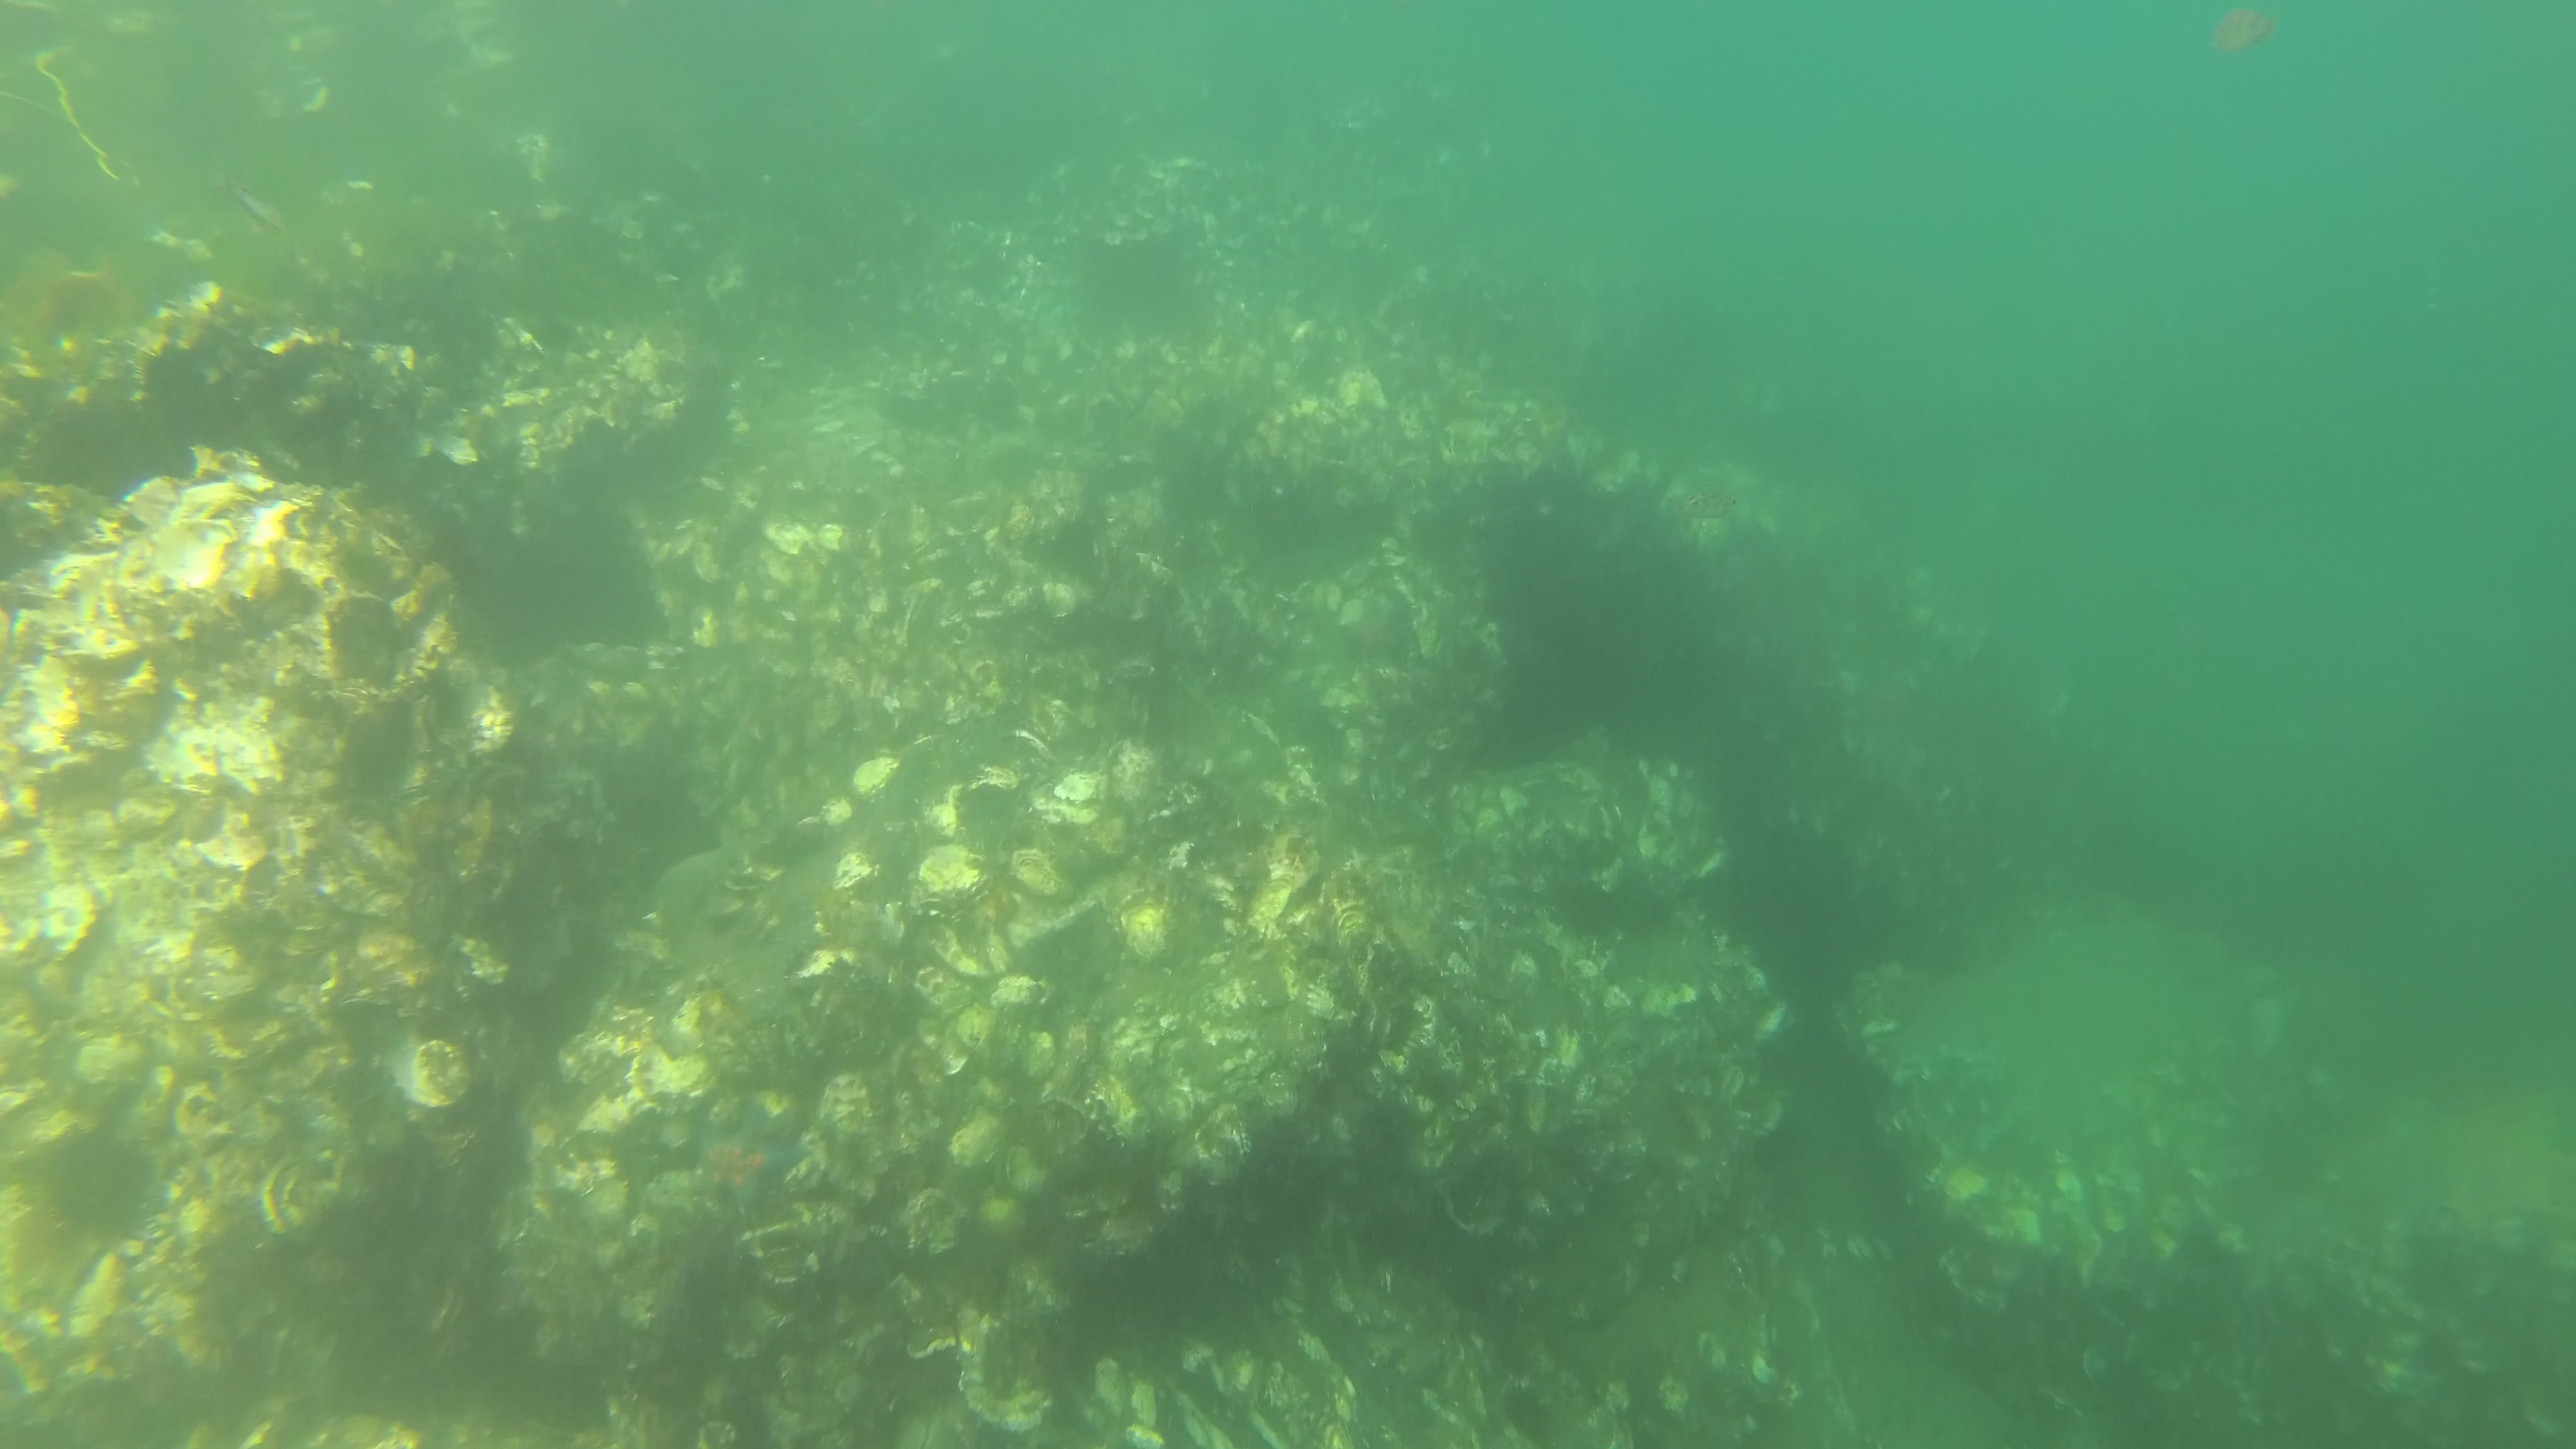echinus: (1552, 878, 1615, 943)
starfish: (686, 1120, 801, 1215), (1336, 596, 1405, 660)
